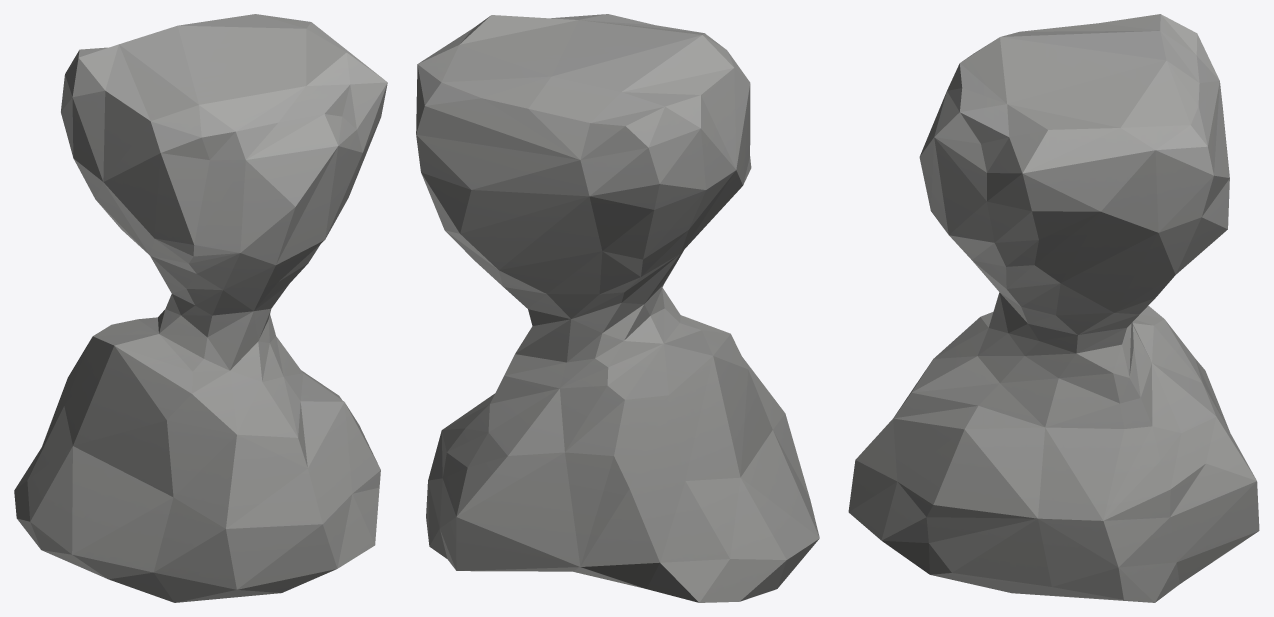
File: Cavern_Pillar-01.fbx
The picture shows the model from 3 angles, left to right: view 1: azimuth 30°, elevation 25°; view 2: azimuth 150°, elevation 25°; view 3: azimuth 270°, elevation 25°; orthographic projection. The views are drawn at different scales.
Visible parts, largest first — view 1: Cavern_Pillar-01; view 2: Cavern_Pillar-01; view 3: Cavern_Pillar-01.
Part boxes in pixels (<box>): Cavern_Pillar-01: <box>14,14,387,602</box>; Cavern_Pillar-01: <box>416,14,819,602</box>; Cavern_Pillar-01: <box>848,14,1259,602</box>.
Bounding box in the file's own units: 876 × 1230 × 931.
Materials: 1 (1 with a texture image).
